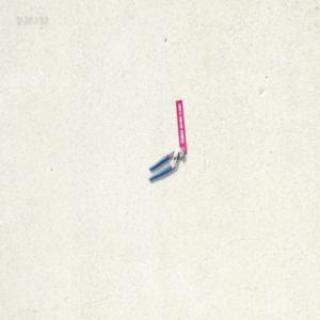LuggageTagtrack_idkeyframe: (174, 98, 187, 151)
Pliertrack_idkeyframe: (147, 145, 183, 181)
